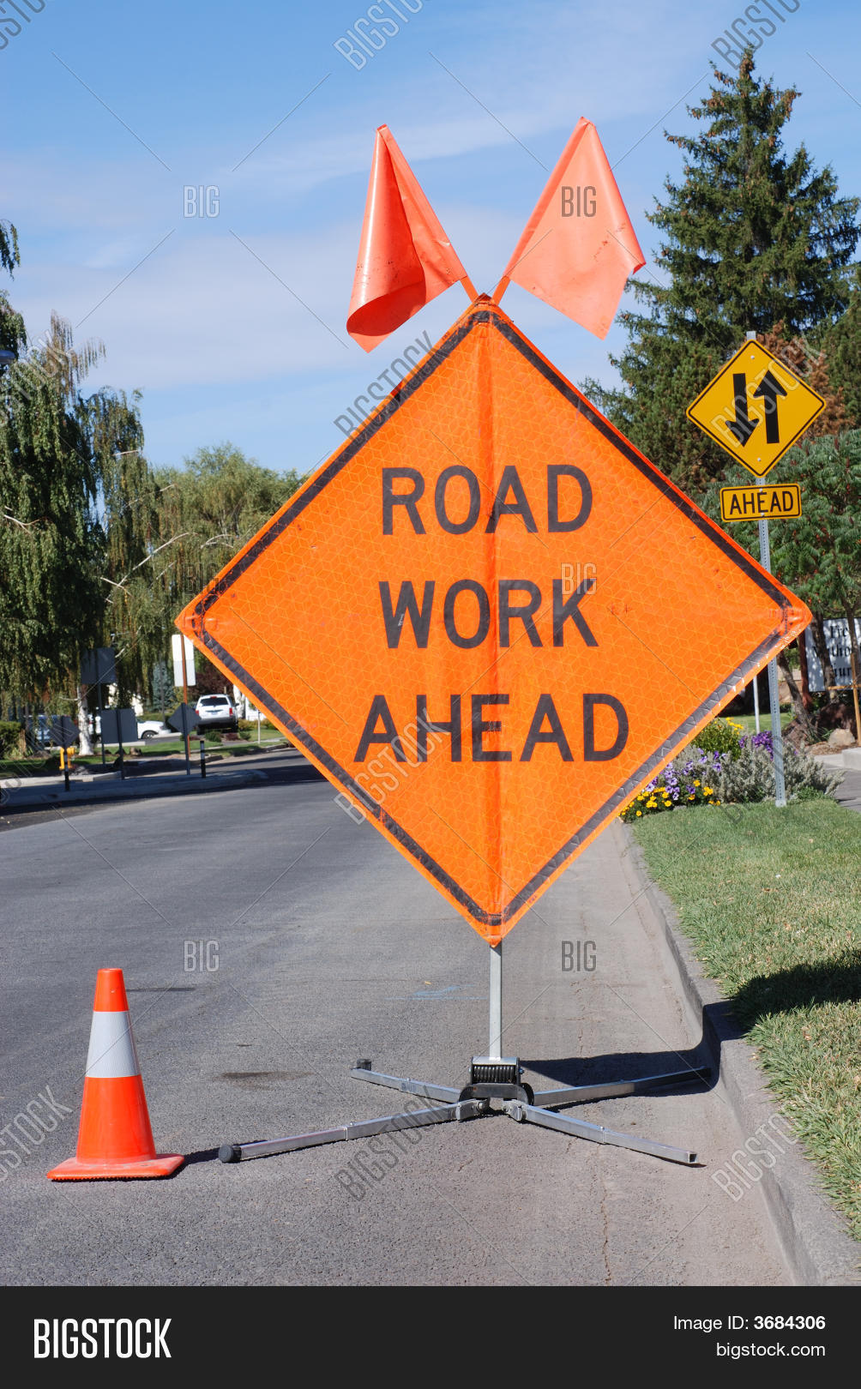Road_cone: (22, 959, 202, 1215)
Road_workahead: (176, 295, 828, 936)
Tree: (1, 275, 117, 745)
